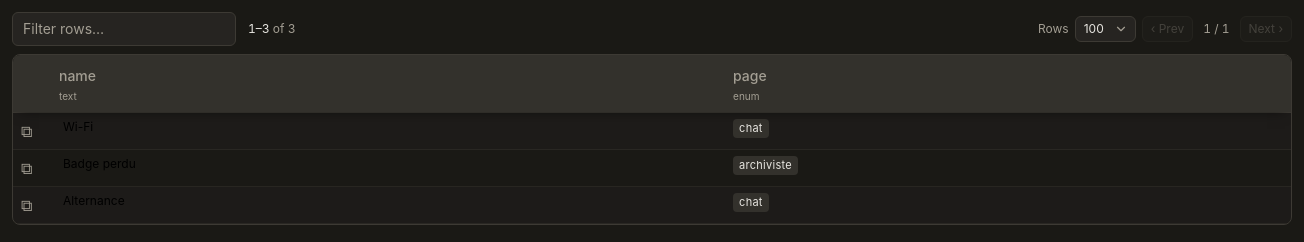
Test: DataGrid — filtering › reads out the visible slice and says what it was filtered from
Expected: the text "1–3" is shown, [248,21,270,36]
Type "chat" into the field with placeholder "Filter rows…" at (124, 29), box [12,12,236,46]
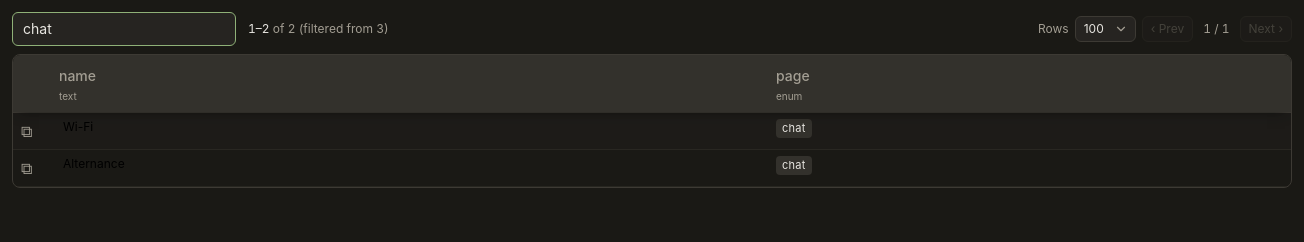
Expected: the text "1–2" is shown, [248,21,270,36]
Expected: the text "1–2 of 2 (filtered from 3)" is shown, [248,21,389,37]
